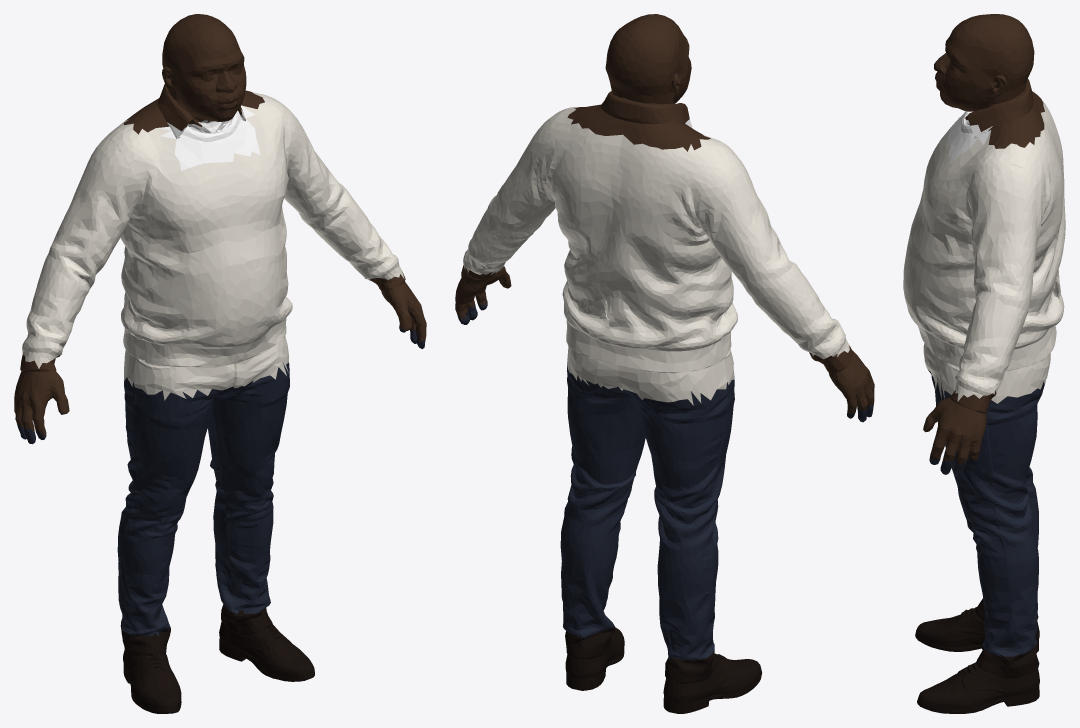
Rendered from boss_prof.obj.
The picture shows the model from 3 angles, left to right: view 1: azimuth 30°, elevation 25°; view 2: azimuth 150°, elevation 25°; view 3: azimuth 270°, elevation 25°; orthographic projection.
Parts seen in each view (by area): view 1: BossProf; view 2: BossProf; view 3: BossProf.
Part boxes in pixels (x1,y1,x2,y2): BossProf: [14, 14, 426, 713]; BossProf: [455, 14, 874, 713]; BossProf: [903, 14, 1065, 713].
Bounding box in the file's own units: 1.61 × 2.5 × 0.5595.
